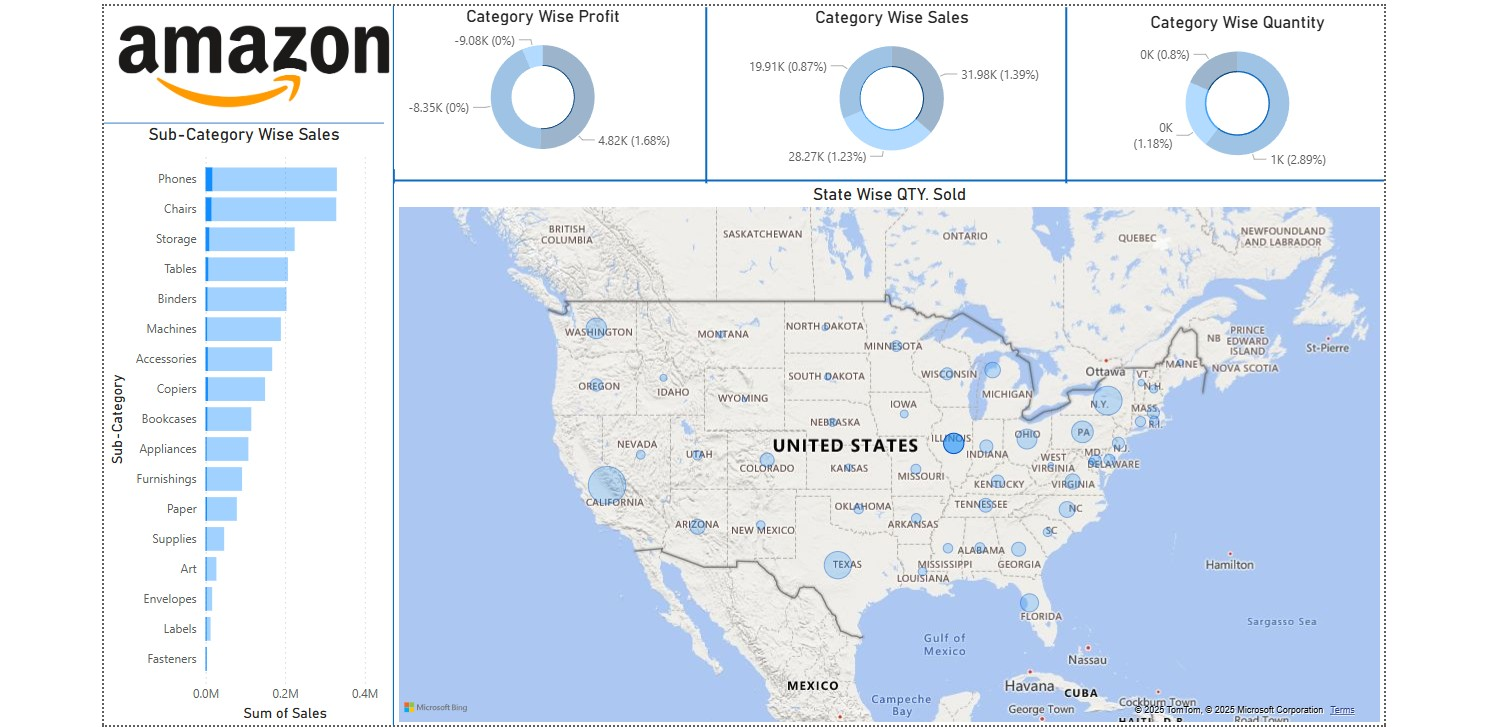

The page's visual inventory and layout, read from the dashboard file:
{"tool":"powerbi","page":{"name":"Page 1","canvas":[1280,720],"ordinal":0},"visuals":[{"type":"image","box":[9.6,1.4,279.9,118],"z":0},{"type":"shape","box":[0,101.5,279.9,32.9],"z":1000},{"type":"shape","box":[275.8,0,27.4,720.4],"z":2000},{"type":"clusteredBarChart","title":"Sub-Category Wise Sales","fields":{"Category":["Orders.Sub-Category"],"Y":["Sum(Orders.Sales)"]},"box":[0,118,279.9,602.4],"z":3000},{"type":"map","title":"State Wise QTY. Sold","fields":{"Category":["Orders.State"],"Size":["Sum(Orders.Quantity)"]},"box":[289.5,177,990.7,543.4],"z":4000},{"type":"shape","box":[289.5,145.5,990.7,59],"z":4001},{"type":"donutChart","title":"Category Wise Profit","fields":{"Category":["Orders.Category"],"Y":["Sum(Orders.Profit)"]},"box":[289.5,0,297.8,163.3],"z":4002},{"type":"shape","box":[576.3,1.4,52.1,175.6],"z":4003},{"type":"donutChart","title":"Category Wise Sales","fields":{"Category":["Orders.Category"],"Y":["Sum(Orders.Sales)"]},"box":[628.5,1.4,318.4,163.3],"z":4004},{"type":"shape","box":[935.9,1.4,52.1,175.6],"z":4005},{"type":"donutChart","title":"Category Wise Quantity","fields":{"Category":["Orders.Category"],"Y":["Sum(Orders.Quantity)"]},"box":[988,6.9,292.3,163.3],"z":4006}]}

Visuals, with their boxes on the page's 1280x720 design canvas (x1, y1, x2, y2). These are canvas units, not pixel positions in the 1490x727 screenshot, which may show the page scaled, cropped or inside an application window:
image: (10,1,290,119)
shape: (0,102,280,134)
shape: (276,0,303,720)
"Sub-Category Wise Sales" clusteredBarChart: (0,118,280,720)
"State Wise QTY. Sold" map: (290,177,1280,720)
shape: (290,146,1280,204)
"Category Wise Profit" donutChart: (290,0,587,163)
shape: (576,1,628,177)
"Category Wise Sales" donutChart: (628,1,947,165)
shape: (936,1,988,177)
"Category Wise Quantity" donutChart: (988,7,1280,170)
